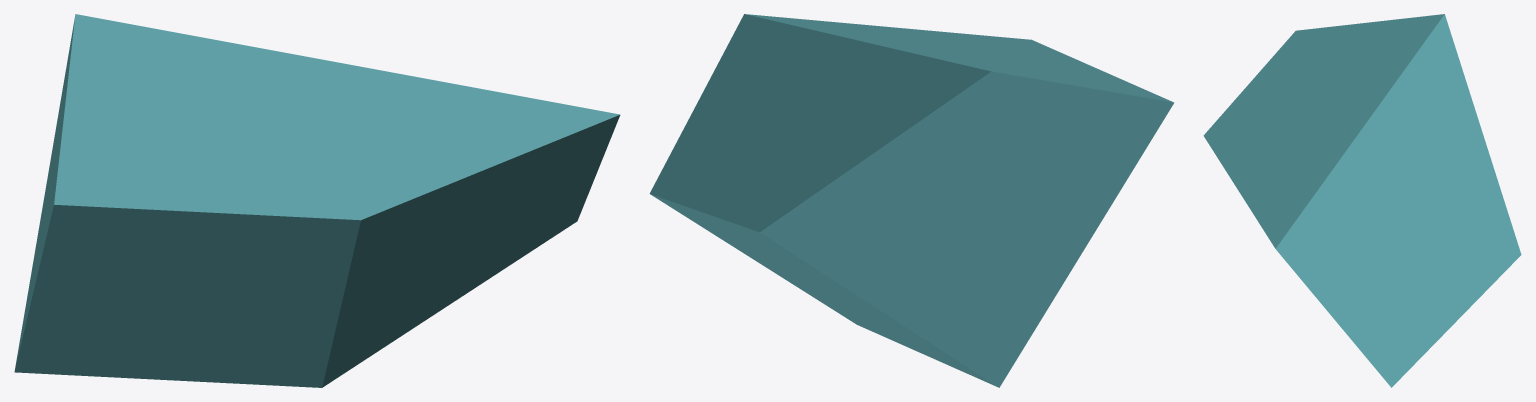
3 renders of one model, left to right at view 1: azimuth 30°, elevation 25°; view 2: azimuth 150°, elevation 25°; view 3: azimuth 270°, elevation 25°, orthographic. The views are drawn at different scales.
Visible parts, largest first — view 1: Cube.022; view 2: Cube.022; view 3: Cube.022.
Part boxes in pixels (bbox=[...]): Cube.022: bbox=[14, 14, 620, 387]; Cube.022: bbox=[649, 14, 1174, 387]; Cube.022: bbox=[1203, 14, 1521, 387].
Size of the model in its own units: 1.36 by 0.8721 by 0.8836.
